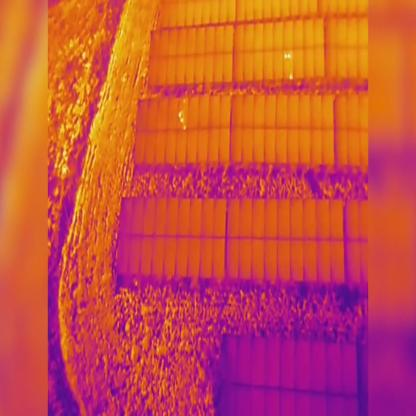hotspot: (288, 73, 294, 82), (287, 53, 291, 60), (283, 52, 286, 59)
